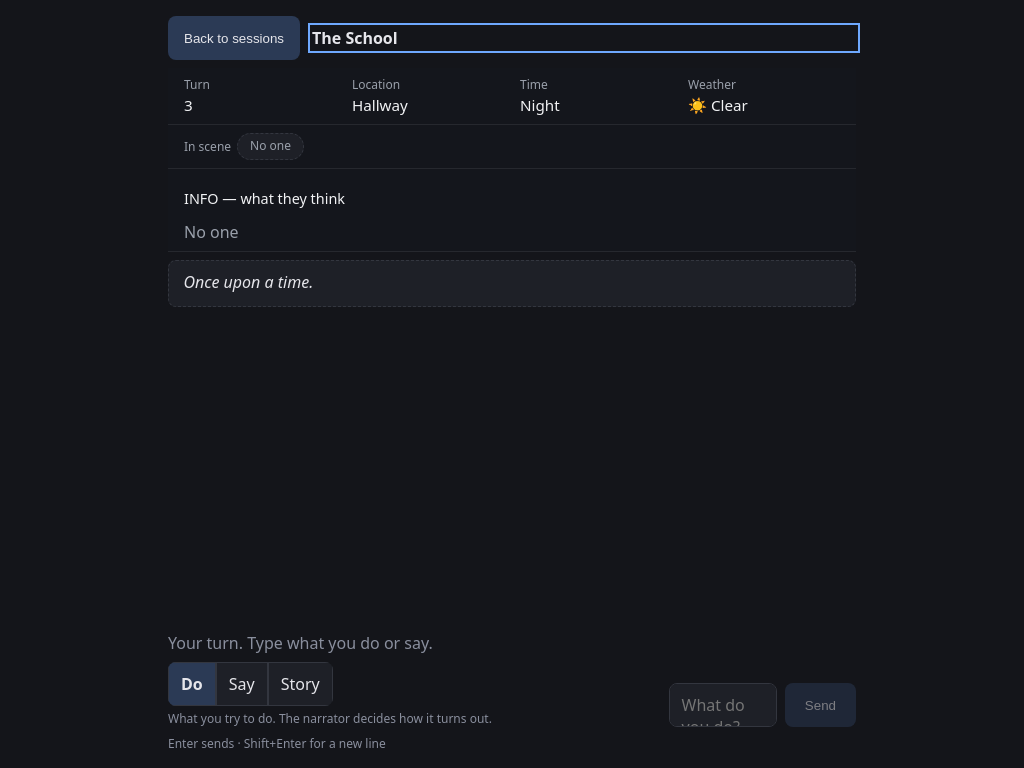
Test: GameScreen turns › marks the hud stale when the stream ends without a hud event
This screenshot has width=1024, height=768.
Check: the text "Once upon a time." is shown, box [183, 271, 313, 293]
Step 1. Type "wait" into the text box named "Your action" → (723,705), box [668, 683, 777, 727]
Then press Enter
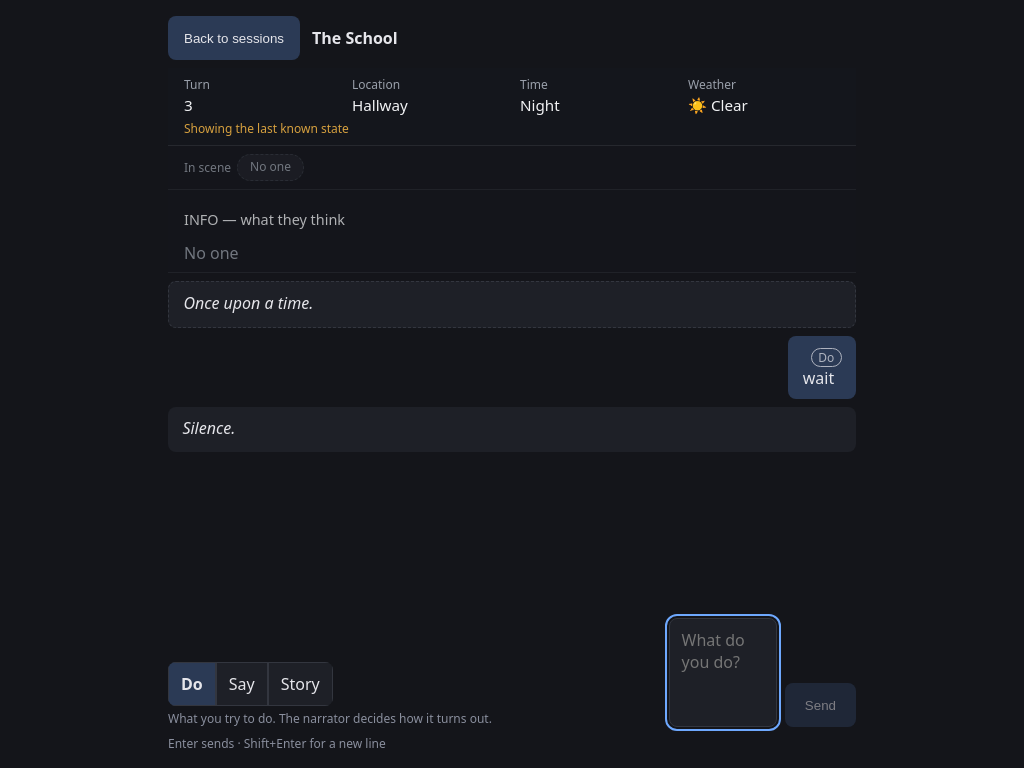
Check: the text "Hallway" is shown, box [352, 95, 408, 115]
Check: the text "Silence." is shown, box [182, 417, 235, 439]
Check: the text "Showing the last known state" is shown, box [184, 120, 349, 137]
